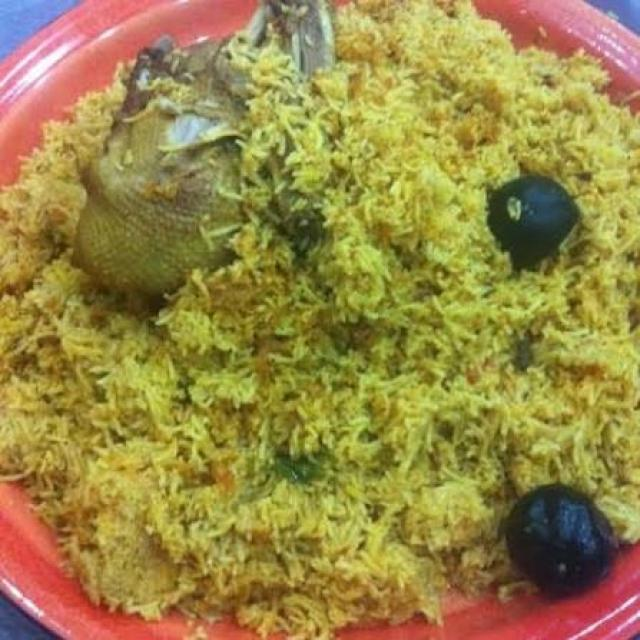Machboos: (20, 8, 640, 596)
